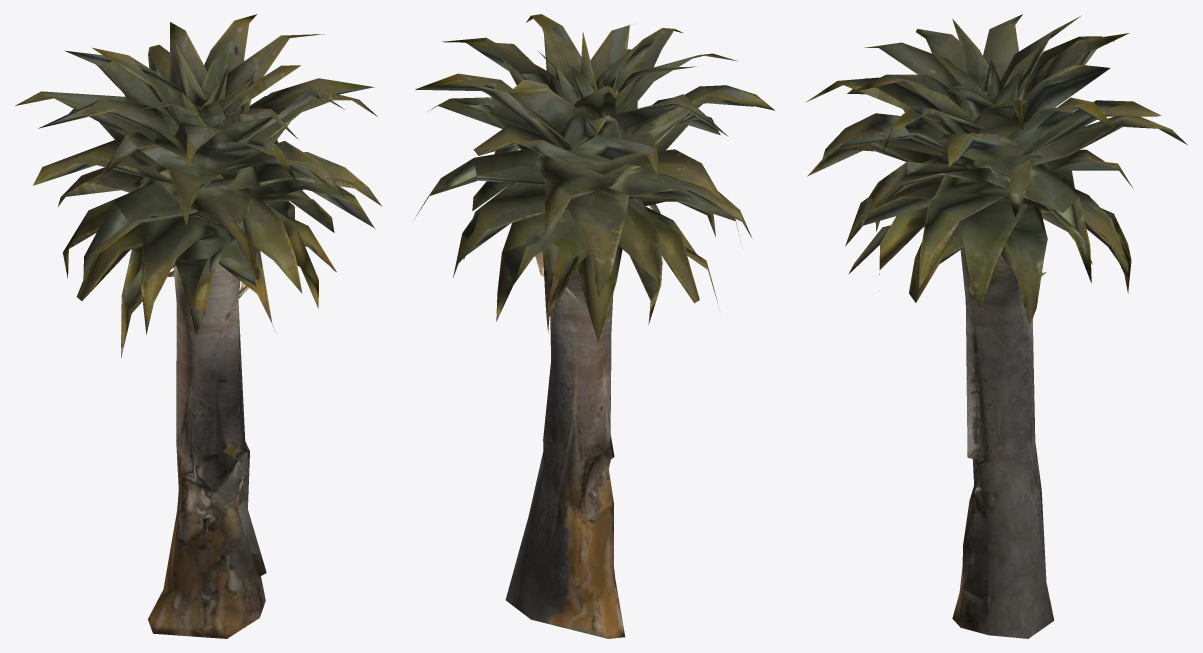
Rendered from tree_lo.glb.
3 renders of one model, left to right at view 1: azimuth 30°, elevation 25°; view 2: azimuth 150°, elevation 25°; view 3: azimuth 270°, elevation 25°, orthographic.
Parts seen in each view (by area): view 1: quiver_tree_02; view 2: quiver_tree_02; view 3: quiver_tree_02.
Boxes of the visible parts, bbox=[...] form: quiver_tree_02: bbox=[15, 14, 382, 638]; quiver_tree_02: bbox=[414, 14, 774, 638]; quiver_tree_02: bbox=[806, 14, 1187, 638].
Bounding box in the file's own units: 0.8108 × 1.45 × 0.8747.
1 material, 1 textured.
